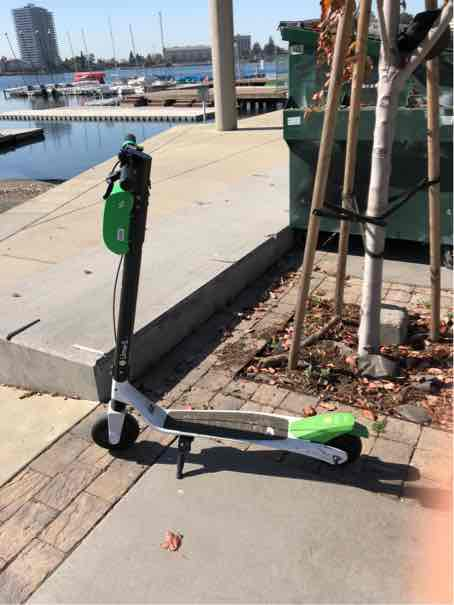scooter: (76, 124, 364, 472)
